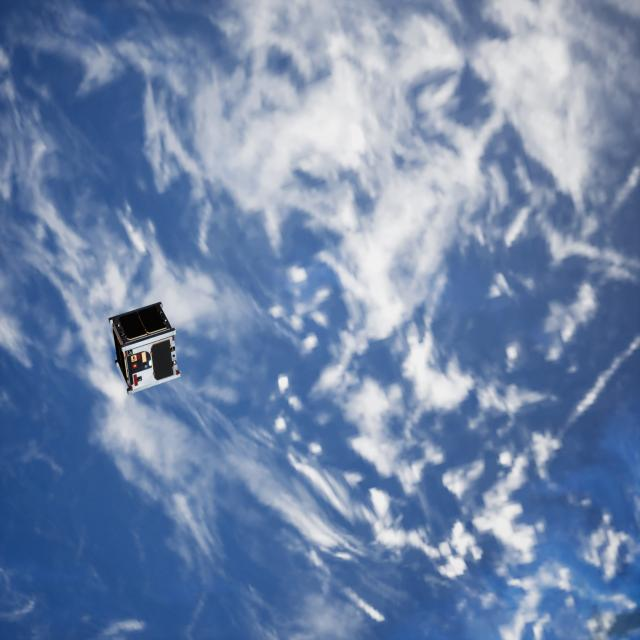medium_debris: (106, 298, 178, 402)
